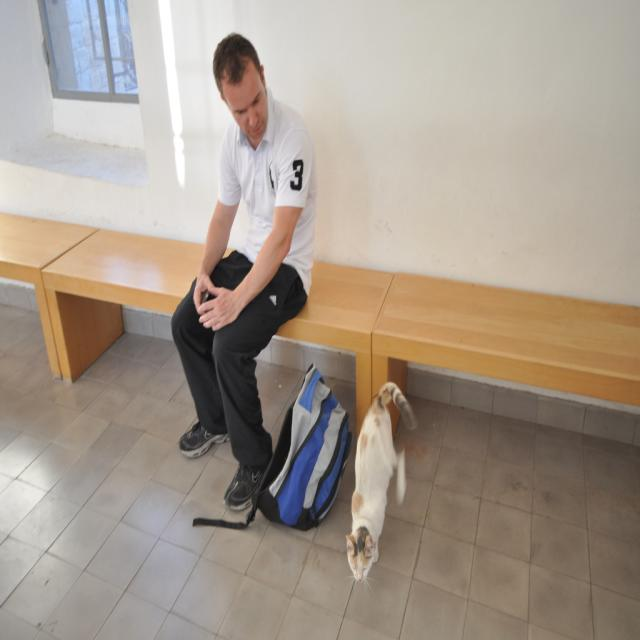Cat: (341, 379, 416, 598)
